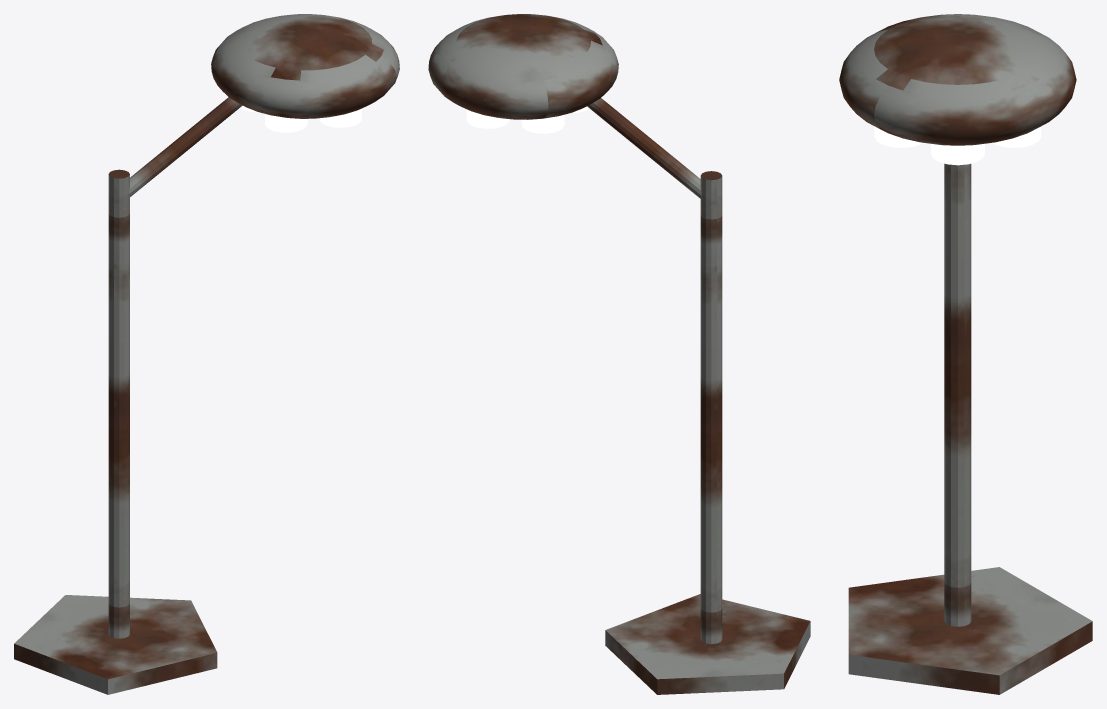
Rendered from Y10_LabOperatingLamp.glb.
3 renders of one model, left to right at view 1: azimuth 30°, elevation 25°; view 2: azimuth 150°, elevation 25°; view 3: azimuth 270°, elevation 25°, orthographic. The views are drawn at different scales.
Parts seen in each view (by area): view 1: Y10_LabOperatingLamp; view 2: Y10_LabOperatingLamp; view 3: Y10_LabOperatingLamp.
Boxes of the visible parts, box(x1,y1,x2,y2) form: Y10_LabOperatingLamp: box(14, 14, 399, 694); Y10_LabOperatingLamp: box(428, 14, 810, 694); Y10_LabOperatingLamp: box(839, 14, 1092, 694).
Bounding box in the file's own units: 0.9786 × 1.5 × 0.4802.
Materials: 2 (2 with a texture image).
